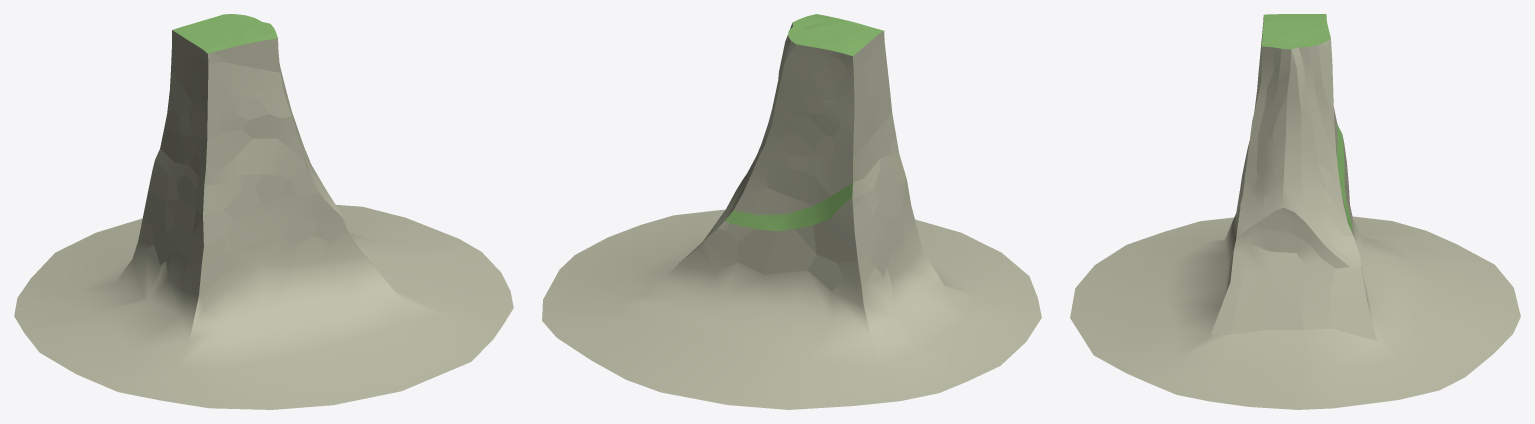
The model's file is island_rocky_B_mini_circle.fbx.
3 views of the same model, side by side, from view 1: azimuth 30°, elevation 25°; view 2: azimuth 150°, elevation 25°; view 3: azimuth 270°, elevation 25° (orthographic). The views are drawn at different scales.
Visible parts, largest first — view 1: island_rocky_B_mini_circle; view 2: island_rocky_B_mini_circle; view 3: island_rocky_B_mini_circle.
Boxes of the visible parts, x1,y1,x2,y2 form: island_rocky_B_mini_circle: (14,14,513,409); island_rocky_B_mini_circle: (542,14,1041,409); island_rocky_B_mini_circle: (1070,14,1520,409).
Size of the model in its own units: 2911 by 1817 by 2814.
